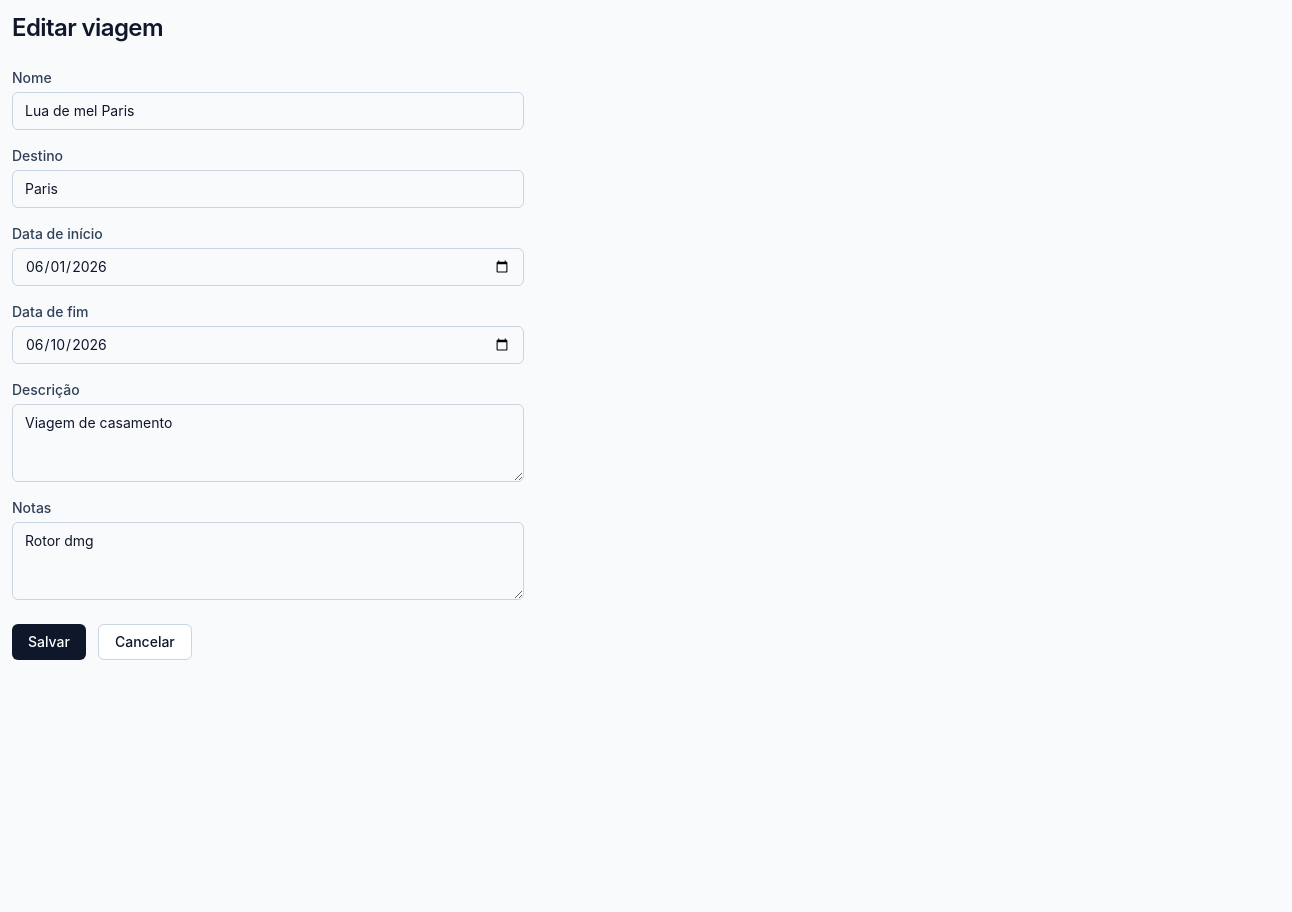
Test: TripEditPage › 403 error shows a safe permission message
Expected: the field labelled "Nome" is shown, top-left (12, 92), bottom-right (524, 130)
Click the button "Salvar". click: (49, 642)
box: top-left (12, 624), bottom-right (86, 660)
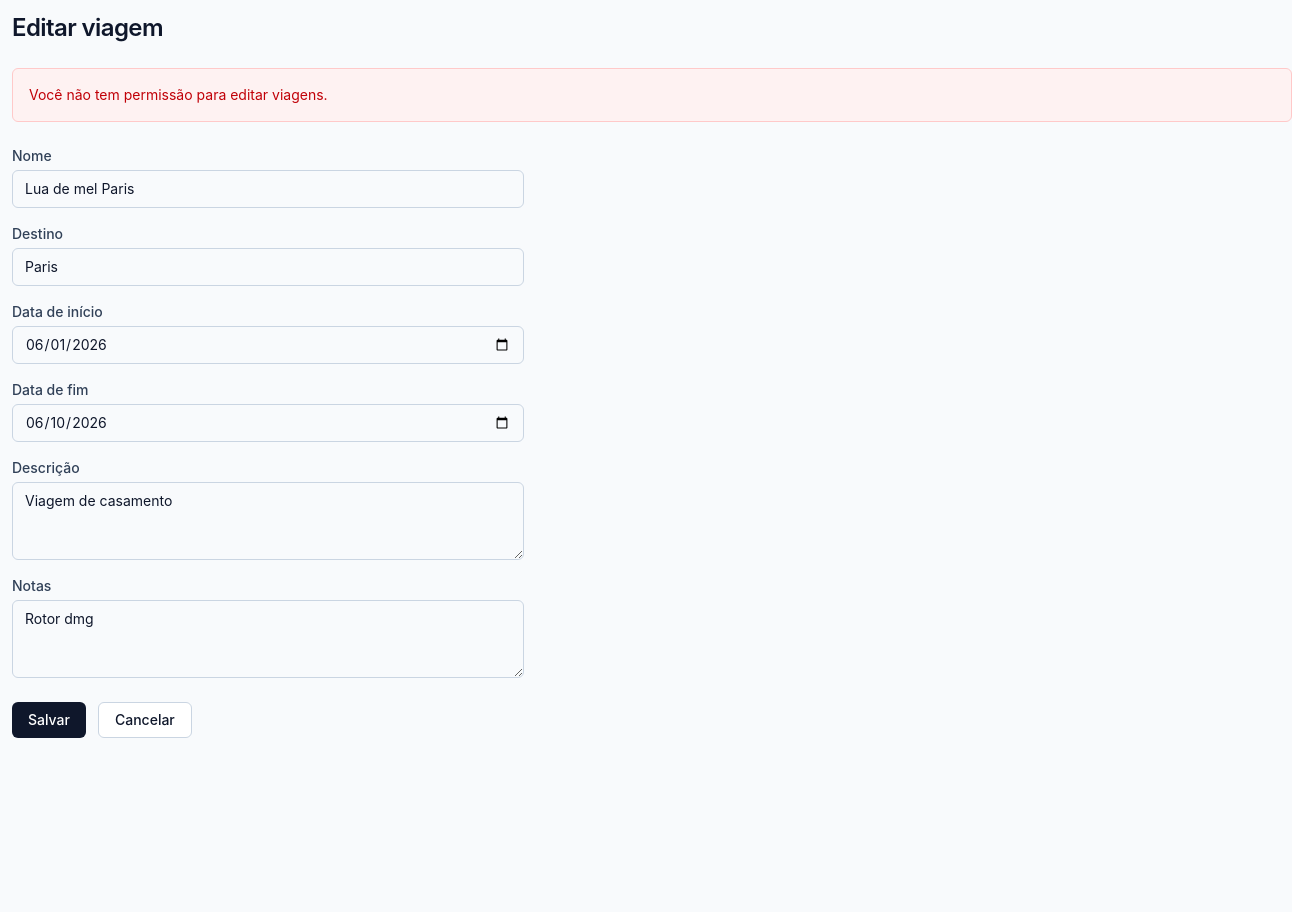
Expected: the text "Você não tem permissão para editar viagens." is shown, top-left (12, 68), bottom-right (1291, 122)
